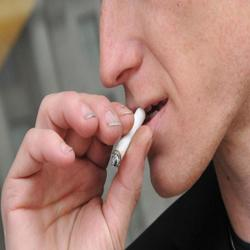smoking: (107, 95, 172, 170)
